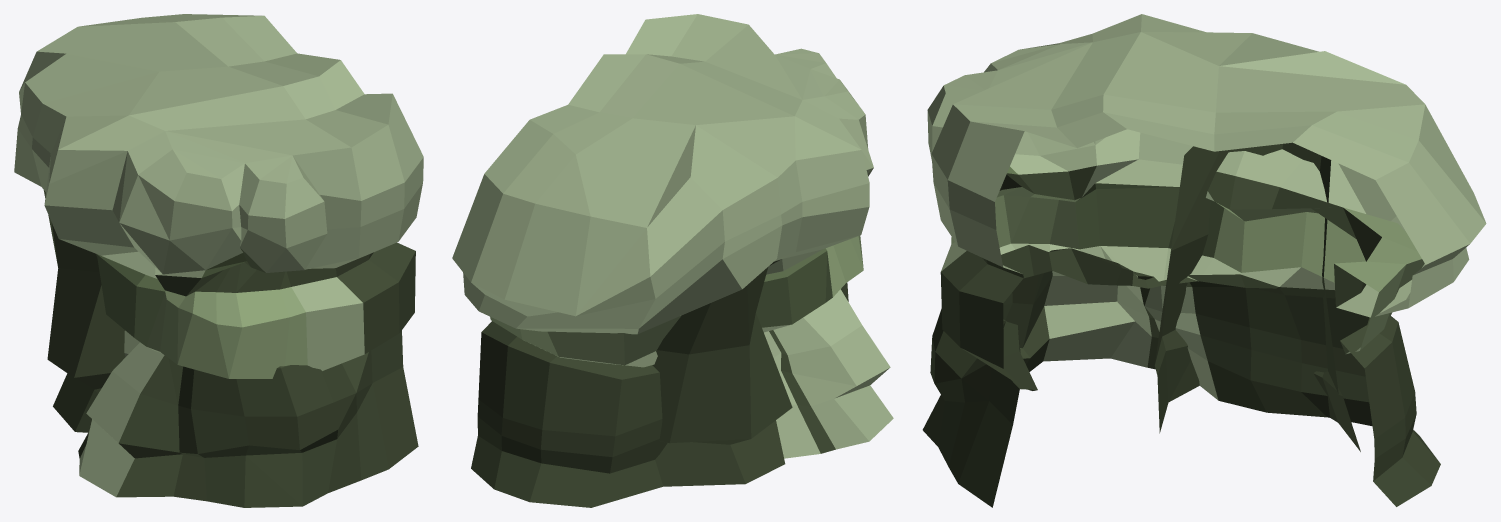
File: EA_Swamp_Wall_03d.glb
3 views of the same model, side by side, from view 1: azimuth 30°, elevation 25°; view 2: azimuth 150°, elevation 25°; view 3: azimuth 270°, elevation 25° (orthographic). The views are drawn at different scales.
Parts seen in each view (by area): view 1: EA_Swamp_Wall_03d; view 2: EA_Swamp_Wall_03d; view 3: EA_Swamp_Wall_03d.
Part boxes in pixels (box(x1,y1,x2,y2)): EA_Swamp_Wall_03d: box(14, 14, 423, 507); EA_Swamp_Wall_03d: box(452, 14, 893, 507); EA_Swamp_Wall_03d: box(922, 14, 1486, 507).
Size of the model in its own units: 14.48 by 15.47 by 21.32.
1 material, 1 textured.
